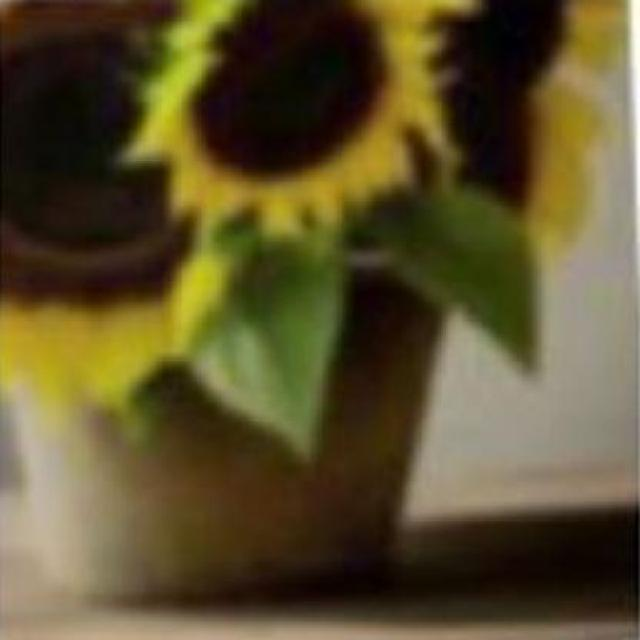sunflower: (129, 4, 434, 230)
